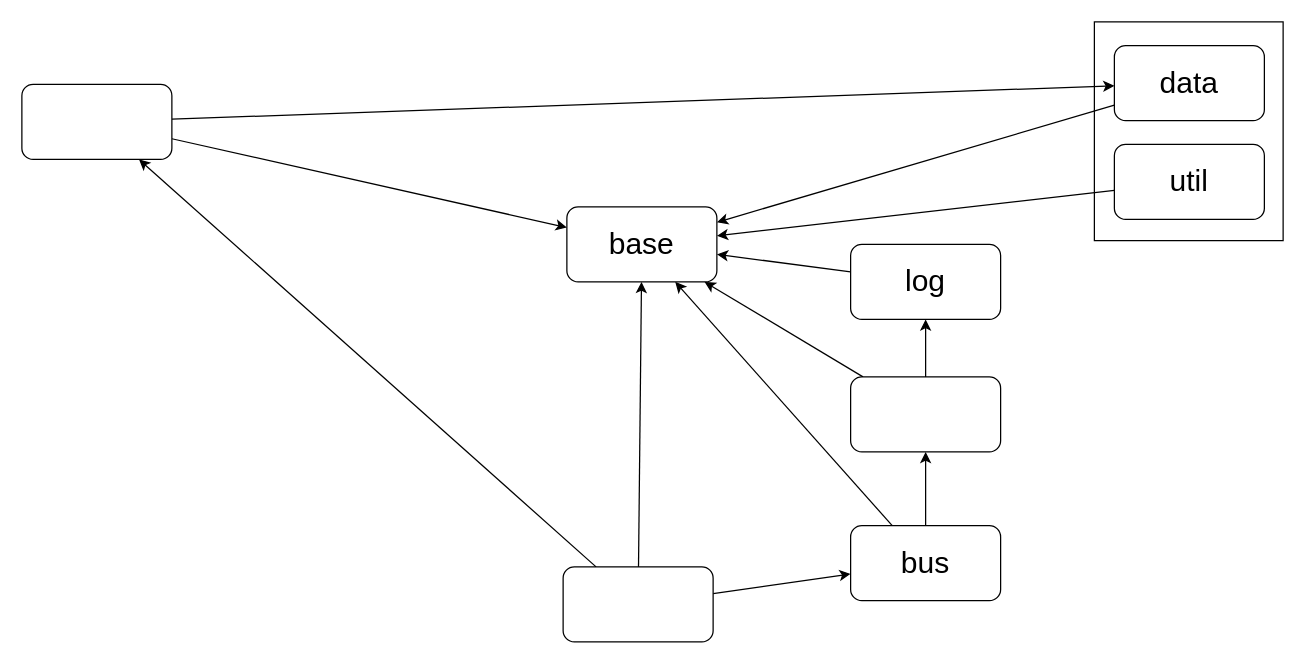
The diagram is 1305 pixels wide and 664 high, and some of its shapes have lost their labels. The centre of each missing label's shape, as x and y in pixels:
"hot-spot" goes at (96,121).
"mq" goes at (925,414).
"service" goes at (637,604).
